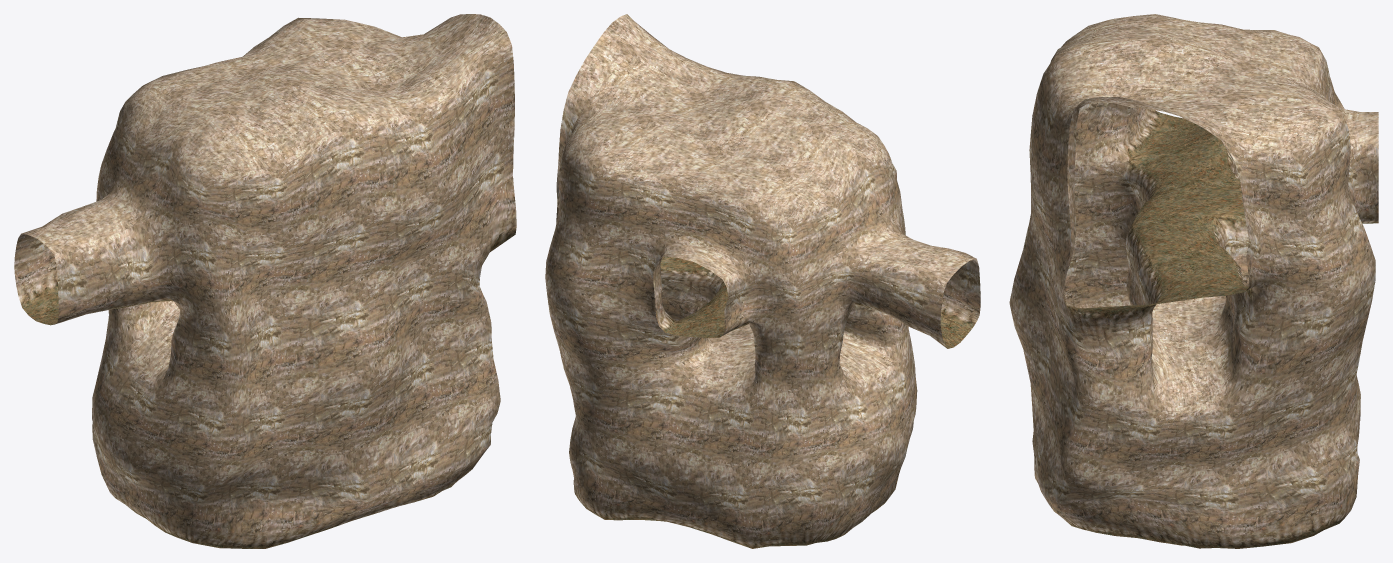
The model's file is thm_all_cave_s01_r6_mesh_r6.fbx.
3 renders of one model, left to right at view 1: azimuth 30°, elevation 25°; view 2: azimuth 150°, elevation 25°; view 3: azimuth 270°, elevation 25°, orthographic. The views are drawn at different scales.
Parts seen in each view (by area): view 1: mesh_node; view 2: mesh_node; view 3: mesh_node.
Part boxes in pixels (x1,y1,x2,y2): mesh_node: [14, 14, 516, 548]; mesh_node: [545, 14, 980, 548]; mesh_node: [1009, 14, 1378, 548].
Size of the model in its own units: 55 by 58.14 by 39.83.
